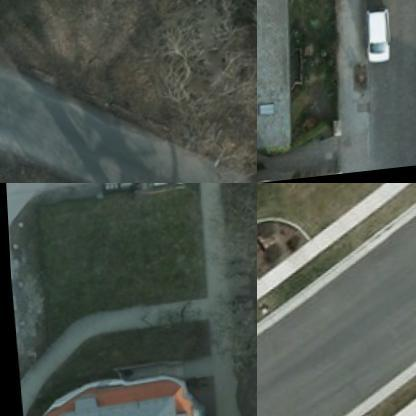van: (358, 12, 386, 72)
